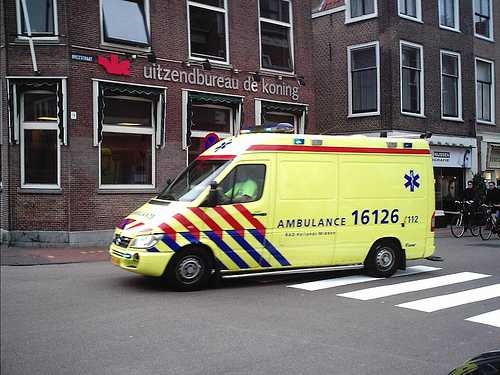Ambulance: (106, 119, 449, 275)
